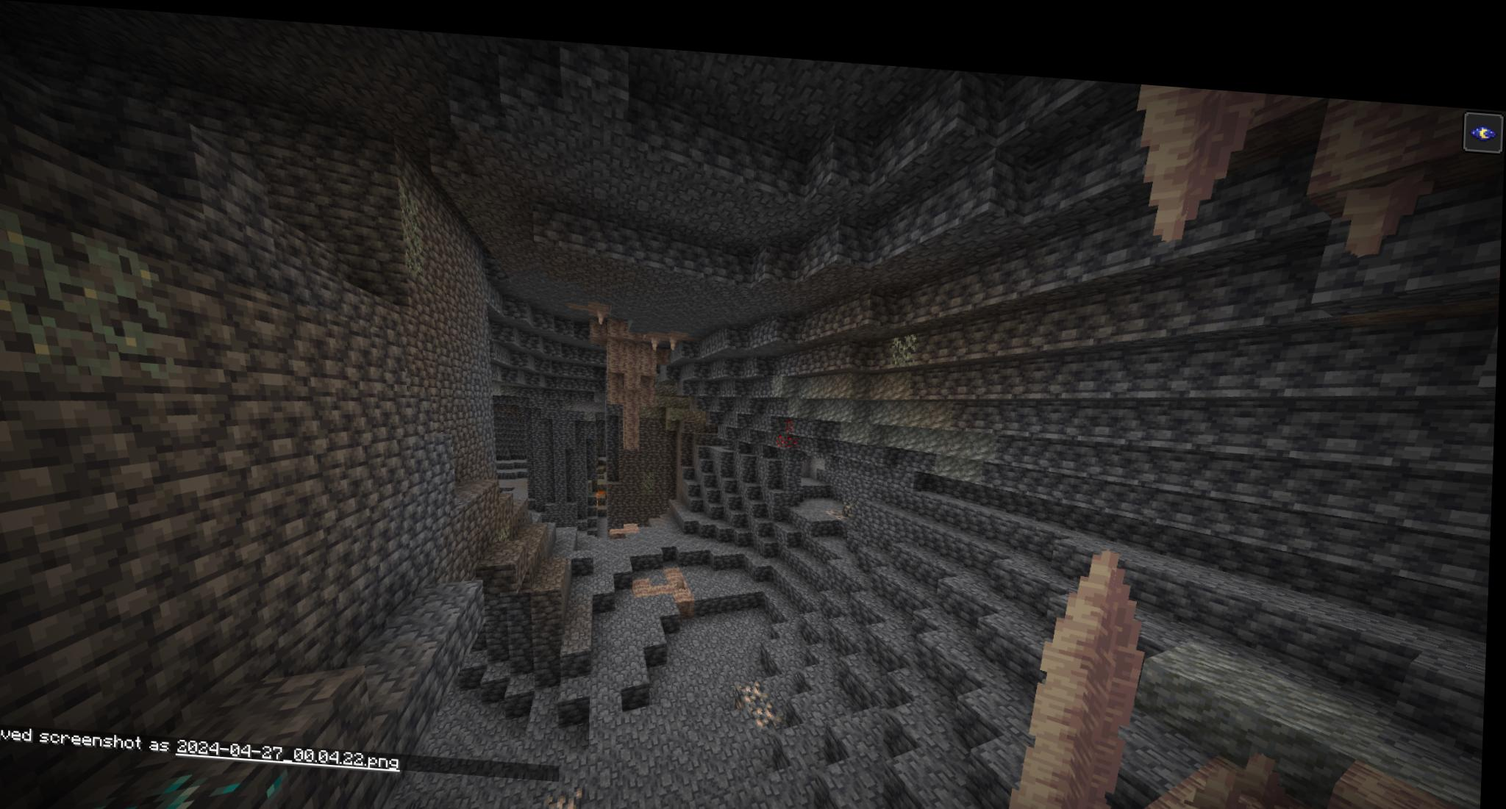diamond ore: (93, 750, 289, 809)
iron ore: (743, 668, 784, 712), (550, 768, 591, 809), (825, 486, 865, 516)
redstone ore: (777, 409, 806, 442)
